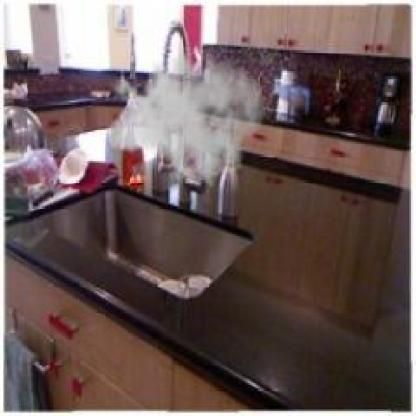Smoke: (106, 37, 265, 192)
